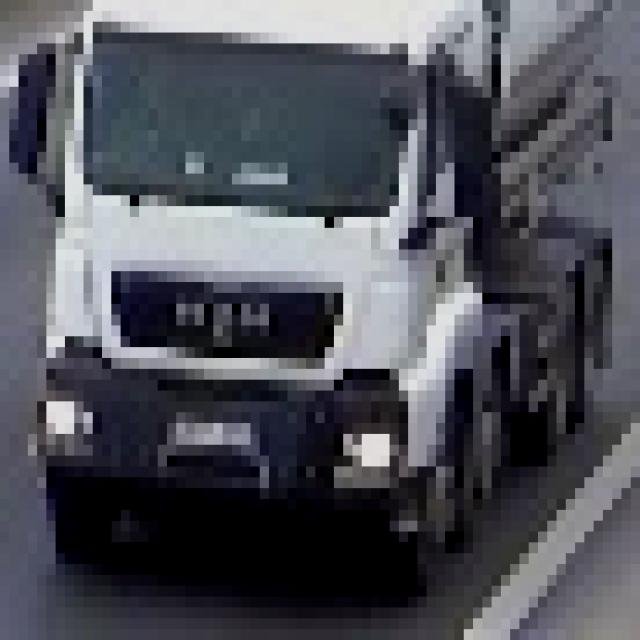truck: (10, 1, 613, 576)
